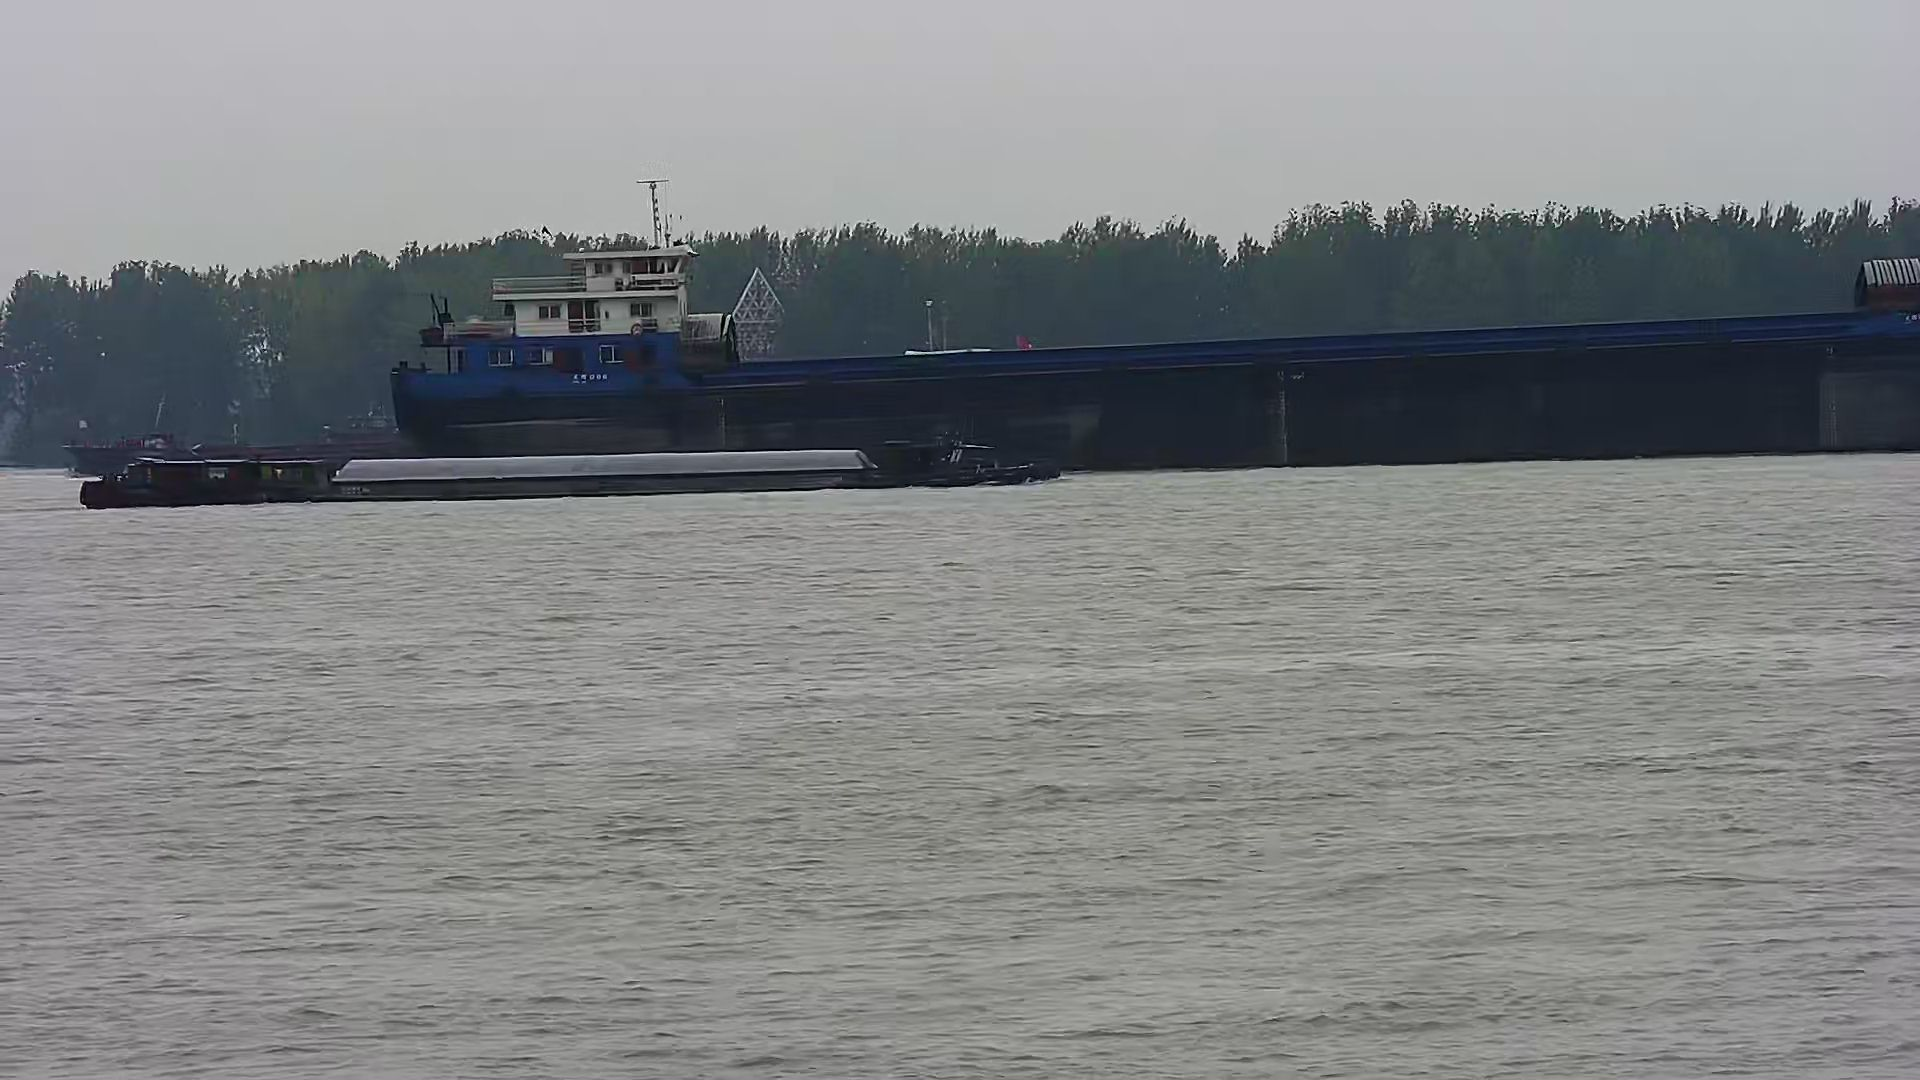ship: (392, 233, 1920, 471), (87, 429, 1054, 506), (65, 401, 392, 476)
